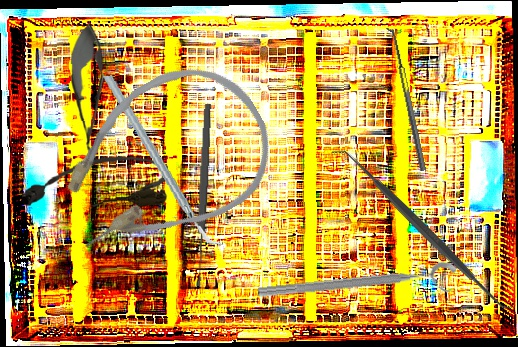Cannula: (30, 42, 294, 281), (19, 151, 171, 216)
Chopper: (102, 63, 223, 258)
Fixation Ring: (256, 260, 459, 314)
Micro Scissor: (68, 22, 108, 163)
Spatula Surgical: (329, 136, 516, 322), (383, 26, 427, 173)
Surgical Spoon: (193, 103, 213, 287)
